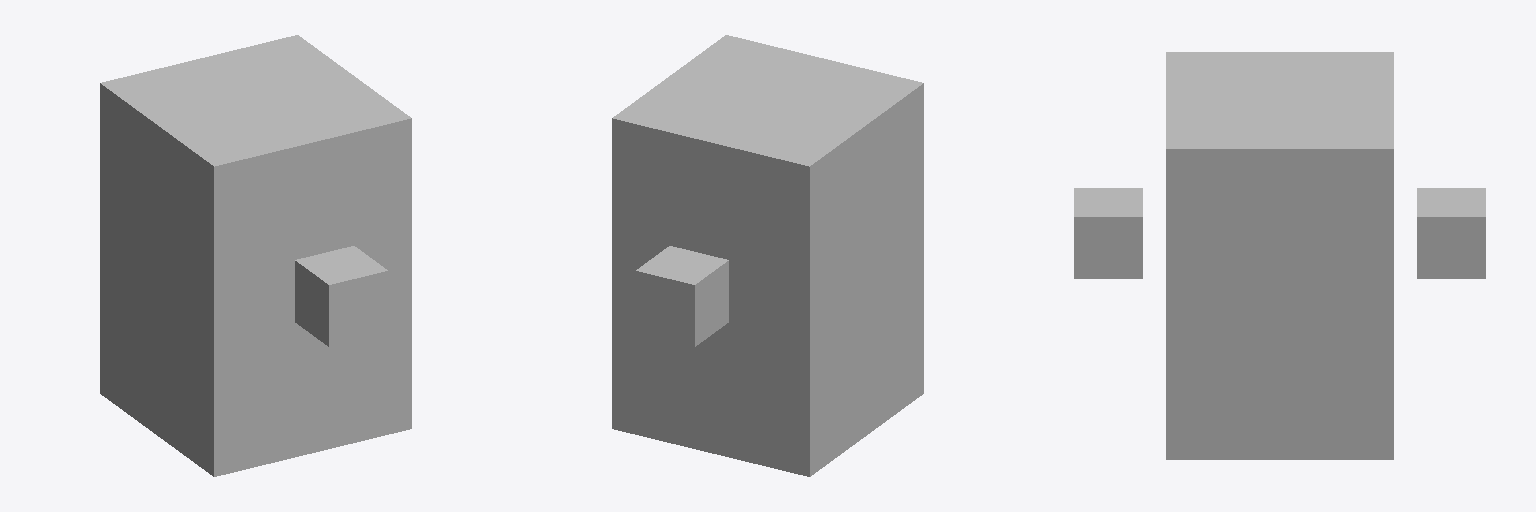
Rendered from BoxMan_No2.obj.
3 views of the same model, side by side, from view 1: azimuth 30°, elevation 25°; view 2: azimuth 150°, elevation 25°; view 3: azimuth 270°, elevation 25° (orthographic).
Visible parts, largest first — view 1: 立方体.002; view 2: 立方体.002; view 3: 立方体.002.
Boxes of the visible parts, x1,y1,x2,y2 form: 立方体.002: [100, 35, 411, 476]; 立方体.002: [612, 35, 923, 476]; 立方体.002: [1074, 52, 1485, 459].
Bounding box in the file's own units: 2 × 3 × 3.6.